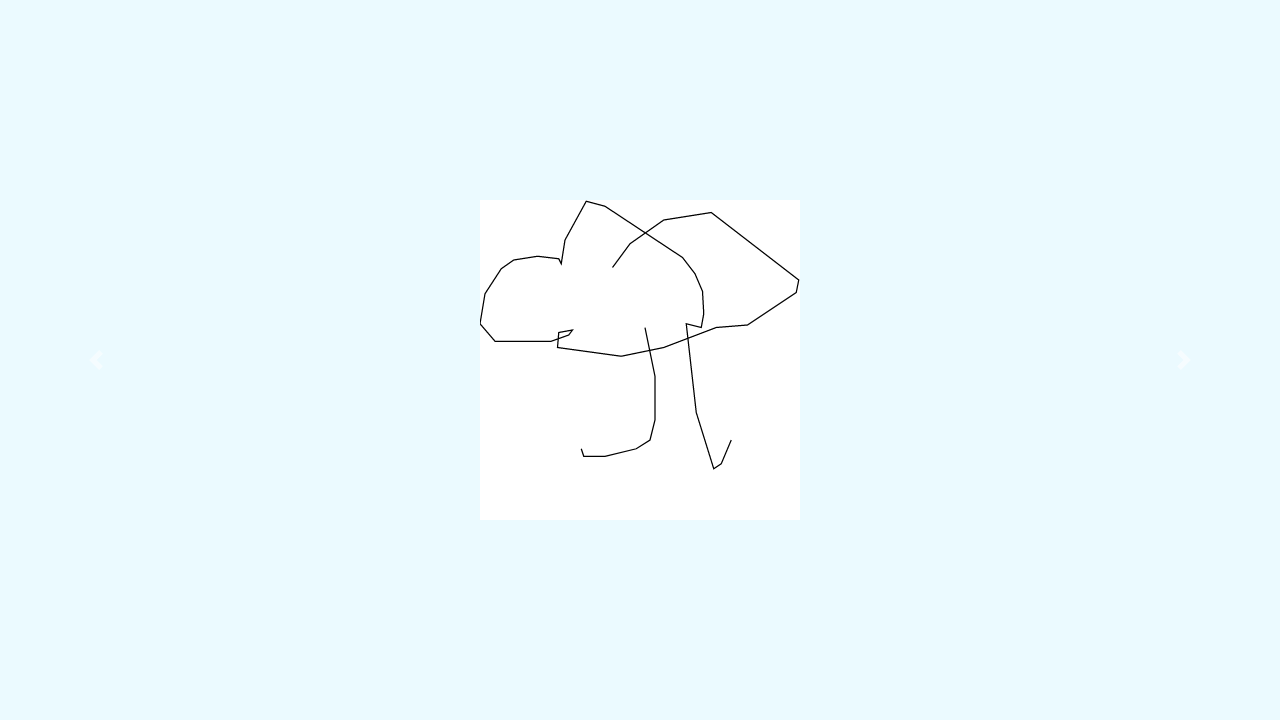tree: (474, 190, 807, 480)
